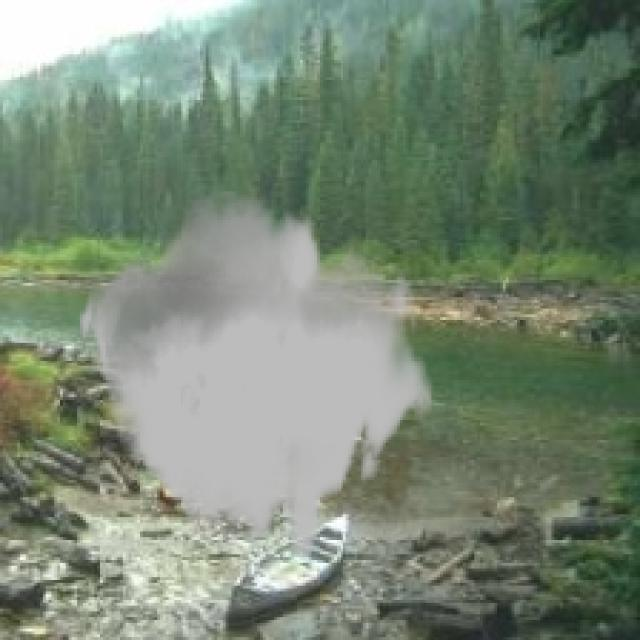smoke: (77, 192, 434, 557)
